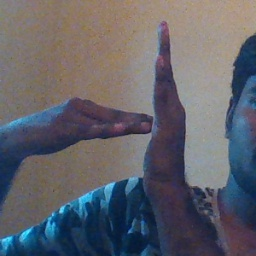Z: (90, 17, 192, 184)
